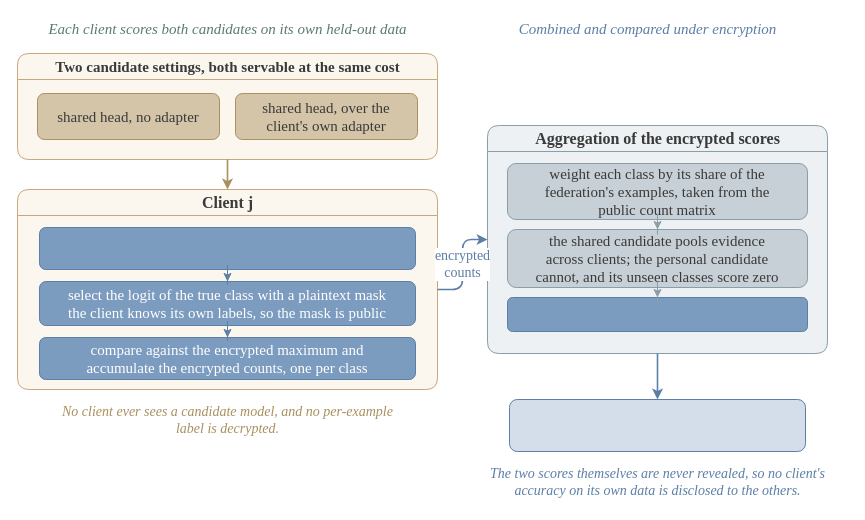
The diagram is 865 pixels wide and 520 high, and some of its shapes have lost their labels. Each missing label, with the centre of its shape:
"one decrypted value: which candidate the federation adopts" goes at [657,425].
"one encrypted comparison of the two" goes at [657,314].
"run each candidate on the held-out examples, obtaining encrypted logits" goes at [227,248].
